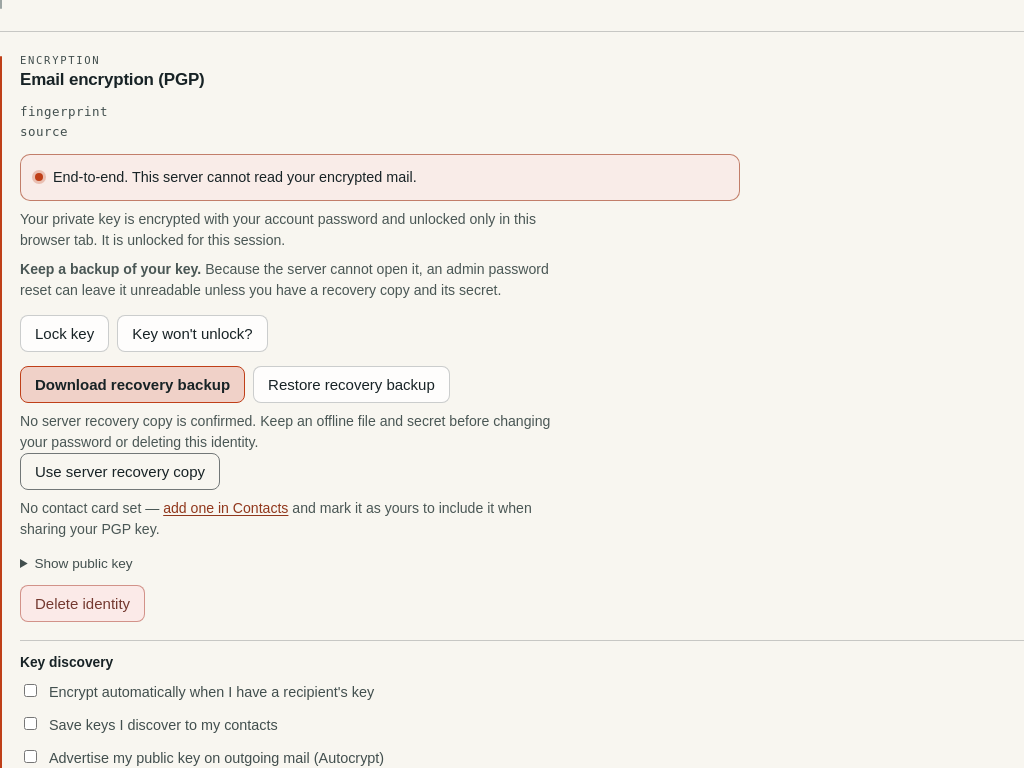
recovery backup with a drifted identity response › does not crash when the stored identity carries no fingerprint
(page scrolled)
Step 1. Click the button "Download recovery backup" → point(133, 384), box 20,366 -> 245,403
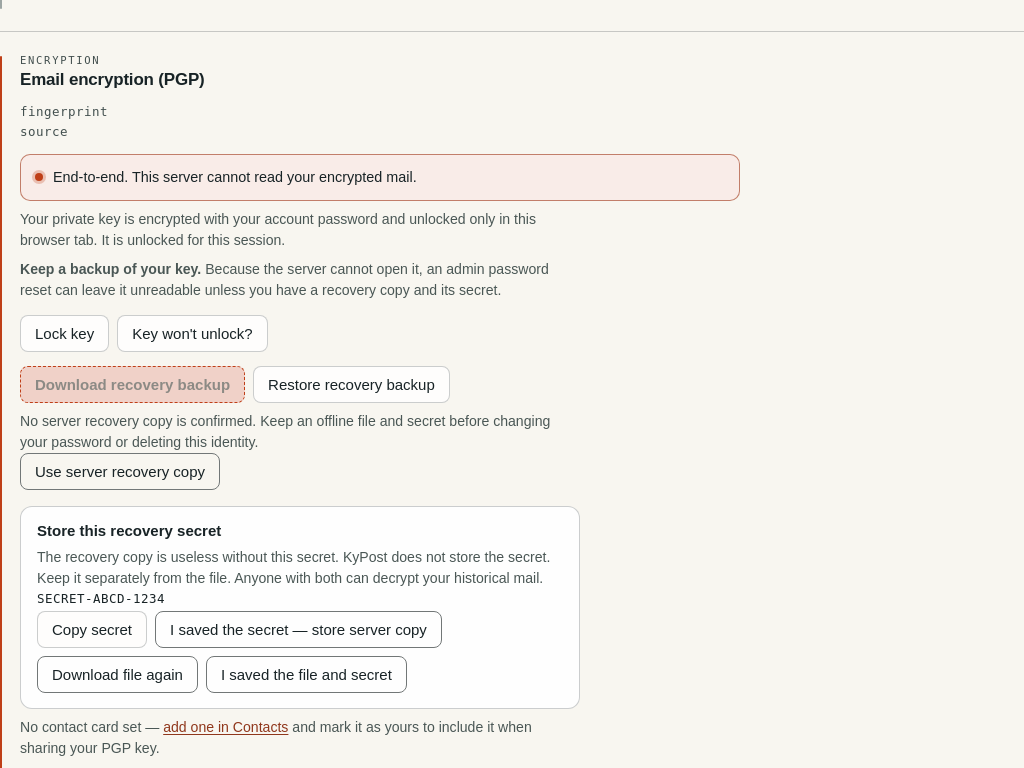
Result: the text "SECRET-ABCD-1234" is shown at 37,591 -> 165,606
